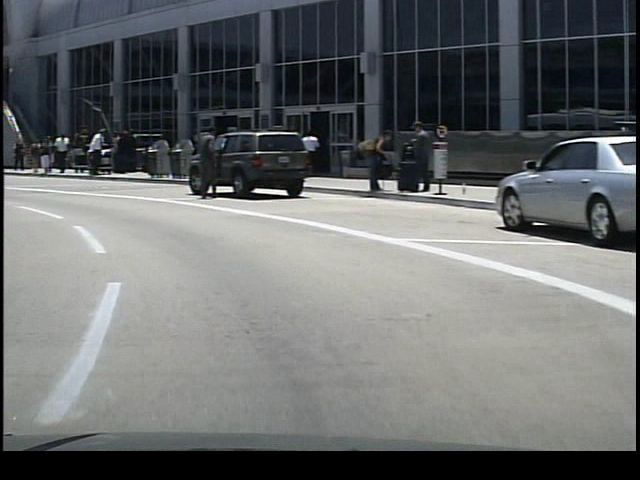person: (387, 116, 432, 194), (189, 115, 218, 204), (357, 123, 389, 196), (293, 120, 321, 186), (79, 125, 106, 178), (49, 129, 69, 178), (33, 132, 52, 180), (9, 137, 27, 175)
